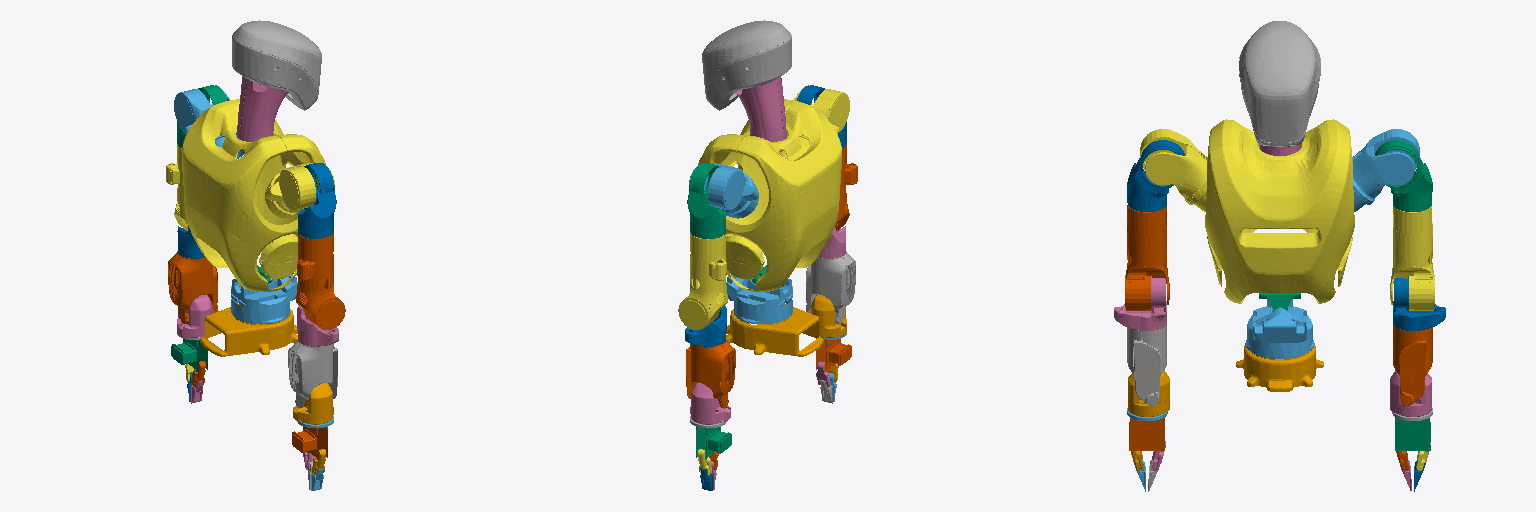
--- Facts derived from the render (not from the file) ---
3 views of the same robot in one strip: view 1: azimuth 30°, elevation 25°; view 2: azimuth 150°, elevation 25°; view 3: azimuth 270°, elevation 25° (orthographic).
Model alex_sake_hands with 39 links and 38 joints (23 revolute, 15 fixed), rooted at Pelvis, posed every joint at zero.
Links seen in each view (by area): view 1: Torso, Head, RightShoulderYawLink, Pelvis, RightWristYawLink, LeftWristYawLink, SpineYawLink, NeckYawLink, RightShoulderPitchLink, RightShoulderRollLink, LeftShoulderPitchLink, RightWristRollLink (+6 smaller); view 2: Torso, Head, LeftShoulderYawLink, Pelvis, LeftWristYawLink, RightWristYawLink, SpineYawLink, NeckYawLink, LeftShoulderPitchLink, LeftShoulderRollLink, RightShoulderPitchLink, LeftWristRollLink (+6 smaller); view 3: Torso, Head, RightShoulderYawLink, LeftShoulderYawLink, RightShoulderPitchLink, LeftShoulderPitchLink, SpineYawLink, Pelvis, LeftWristYawLink, RightWristYawLink, RightShoulderRollLink, LeftShoulderRollLink (+6 smaller).
Boxes of the visible links, x1,y1,x2,y2 form: Torso: (182, 99, 325, 291); Head: (232, 20, 321, 110); RightShoulderYawLink: (296, 232, 345, 329); Pelvis: (200, 304, 297, 356); RightWristYawLink: (288, 340, 337, 408); LeftWristYawLink: (168, 251, 217, 323); SpineYawLink: (231, 274, 297, 323); NeckYawLink: (237, 76, 288, 151); RightShoulderPitchLink: (265, 163, 334, 217); RightShoulderRollLink: (298, 163, 336, 238); LeftShoulderPitchLink: (174, 89, 244, 159); RightWristRollLink: (293, 383, 333, 424); Torso: (698, 99, 841, 292); Head: (702, 20, 791, 110); LeftShoulderYawLink: (678, 232, 727, 329); Pelvis: (726, 304, 823, 356); LeftWristYawLink: (686, 340, 735, 408); RightWristYawLink: (806, 251, 855, 323); SpineYawLink: (726, 275, 792, 323); NeckYawLink: (735, 76, 786, 151); LeftShoulderPitchLink: (689, 163, 758, 218); LeftShoulderRollLink: (687, 163, 725, 238); RightShoulderPitchLink: (779, 89, 849, 159); LeftWristRollLink: (690, 383, 730, 424); Torso: (1205, 119, 1354, 303); Head: (1239, 21, 1320, 146); RightShoulderYawLink: (1125, 205, 1169, 310); LeftShoulderYawLink: (1390, 206, 1434, 310); RightShoulderPitchLink: (1140, 129, 1207, 211); LeftShoulderPitchLink: (1352, 129, 1419, 211); SpineYawLink: (1245, 299, 1314, 358); Pelvis: (1236, 345, 1323, 391); LeftWristYawLink: (1393, 325, 1432, 405); RightWristYawLink: (1127, 325, 1166, 405); RightShoulderRollLink: (1127, 140, 1184, 211); LeftShoulderRollLink: (1375, 140, 1432, 211).
Bounding box of the posed robot: 0.3163 × 0.7309 × 1.12 m (x, y, z).
30 mesh visuals loaded from 23 distinct referenced files (23 OBJ).

URDF robot description (alex_sake_hands):
<?xml version = "1.0" ?>
<!-- =================================================================================== -->
<!-- |    This document was autogenerated by xacro from robot.xacro                    | -->
<!-- |    EDITING THIS FILE BY HAND IS NOT RECOMMENDED                                 | -->
<!-- =================================================================================== -->
<robot name="alex_sake_hands">

		<!-- 8020 Base, Chest and Head -->
	<link name="Pelvis">
		<inertial>
			<mass value="4.074"/>
			<origin rpy="0 0 0" xyz="-0.010295 -0.001599 0.056458"/>
			<inertia ixx="0.010219858" ixy="-0.00012501" ixz="-0.001101619" iyy="0.015397437" iyz="-0.000162984" izz="0.015996955" />
		</inertial>
		<visual>
			<geometry>
				<mesh filename="package://example-robot-data/robots/alex_description/meshes/ALX02_02_A01_BaseLink.obj"/>
			</geometry>
			<origin rpy="0.0 0.0 0.0" xyz="0.0 0.0 0.0"/>
		</visual>
	<collision>
      <origin xyz="0 0 0.0" rpy="0 0 0" />
      <geometry>
        <mesh filename="package://example-robot-data/robots/alex_description/meshes/ALX02_02_A01_BaseLink.obj" />
      </geometry>
    </collision>
	</link>
	<!-- Spine Joints -->
	<joint name="SpineYaw" type="revolute">
		<origin rpy="0 0 0" xyz="0 0 0.1045" />
		<axis xyz="0 0 1" />
		<parent link="Pelvis" />
		<child link="SpineYawLink" />
		<limit effort="150" lower="-1.0472" upper="1.0472" velocity = "9.0" />
		<dynamics damping="0.05" friction="0.0"/>
    </joint>

	<joint name="SpineRoll" type="revolute">
		<origin rpy="0 0 0" xyz="-0.015 0 0.0528" />
		<axis xyz="1 0 0" />
		<parent link="SpineYawLink" />
		<child link="SpineRollLink" />
		<limit effort="150.0" lower="-0.436332" upper="0.436332" velocity = "6.0" />
		<dynamics damping="0.05" friction="0.0"/>
	</joint>

	<joint name="SpinePitch" type="revolute">
		<origin rpy="0 0 0" xyz="0 0 0.035" />
		<axis xyz="0 1 0" />
		<parent link="SpineRollLink" />
		<child link="Torso" />
		<limit effort="250.0" lower="-0.523599" upper="0.785398" velocity = "6.0" />
		<dynamics damping="0.05" friction="0.0"/>
	</joint>

	<!-- Spine Links -->
	<link name="SpineYawLink">
		<inertial>
			<mass value="1.839"/>
			<origin rpy="0 0 0" xyz="0.00785 0.001802 0.030654"/>
			<inertia ixx="0.005450626" ixy="0.000208526" ixz="-0.001171705" iyy="0.007137808" iyz="0.000116812" izz="0.006970545"/>
		</inertial>
		<visual>
			<geometry>
				<mesh filename="package://example-robot-data/robots/alex_description/meshes/ALX02_02_A04_BaseDiffLink.obj"/>
			</geometry>
			<origin rpy="0.0 0.0 0.0" xyz="0.0 0.0 0.0"/>
		</visual>
	<collision>
      <origin xyz="0 0 0.0" rpy="0 0 0" />
      <geometry>
        <mesh filename="package://example-robot-data/robots/alex_description/meshes/ALX02_02_A04_BaseDiffLink.obj" />
      </geometry>
    </collision>
	</link>

	<link name="SpineRollLink">
		<inertial>
			<mass value="0.235"/>
			<origin rpy="0 0 0" xyz="0.000674 0.000626 0.018996"/>
			<inertia ixx="0.000188204" ixy="0.000000058" ixz="0.000002065" iyy="0.000148152" iyz="-0.000002403" izz="0.000195223"/>
		</inertial>
		<visual>
			<geometry>
				<mesh filename="package://example-robot-data/robots/alex_description/meshes/ALX02_02_A05_UJointLink.obj"/>
			</geometry>
			<origin rpy="0.0 0.0 0.0" xyz="0.0 0.0 0.0"/>
		</visual>
	<collision>
      <origin xyz="0 0 0.0" rpy="0 0 0" />
      <geometry>
        <mesh filename="package://example-robot-data/robots/alex_description/meshes/ALX02_02_A05_UJointLink.obj" />
      </geometry>
    </collision>
	</link>

	<!-- Torso Link -->
	<link name="Torso">
		<inertial>
			<mass value="17.574"/>
			<origin rpy="0 0 0" xyz="0.003673 0.000059 0.160289"/>
			<inertia ixx="0.24725248" ixy="-0.000080922" ixz="0.000927935" iyy="0.158680043" iyz="0.000328726" izz="0.153487995"/>
		</inertial>
		<visual>
			<geometry>
				<mesh filename="package://example-robot-data/robots/alex_description/meshes/ALX02_02_A06_TorsoLink.obj"/>
			</geometry>
			<origin rpy="0.0 0.0 0.0" xyz="0.0 0.0 0.0"/>
		</visual>
	<collision>
      <origin xyz="0 0 0.0" rpy="0 0 0" />
      <geometry>
        <mesh filename="package://example-robot-data/robots/alex_description/meshes/ALX02_02_A06_TorsoLink.obj" />
      </geometry>
    </collision>
	</link>

	<!-- TORSO IMU's NOTE: The torso IMUs are redundant-->
	<!-- Torso Left IMU. Currently not used for anything-->
	<link name="TorsoLeftIMULink">
		<inertial>
			<mass value="0"/>
			<origin rpy="0 0 0" xyz="0 0 0"/>
			<inertia ixx="0.0" ixy="0.0" ixz="0.0" iyy="0.0" iyz="0.0" izz="0.0"/>
		</inertial>
	</link>
	<joint name="TorsoLeftIMUJoint" type="fixed">
		<origin rpy="1.5707963267948966 -0.6981317007977316 1.5707963267948961" xyz="0.07978495 0.10932294 0.17623744"/>
		<axis xyz="0 0 1"/>
		<parent link="Torso"/>
		<child link="TorsoLeftIMULink"/>
	</joint>
	<gazebo reference="TorsoLeftIMULink">
		<sensor name="TorsoLeftIMU" type="imu">
			<always_on>true</always_on>
			<imu>
				<noise>
					<type>gaussian</type>
					<rate>
						<mean>0</mean>
						<stddev>0.0002</stddev>
						<bias_mean>7.5e-06</bias_mean>
						<bias_stddev>8e-07</bias_stddev>
					</rate>
					<accel>
						<mean>0</mean>
						<stddev>0.017</stddev>
						<bias_mean>0.1</bias_mean>
						<bias_stddev>0.001</bias_stddev>
					</accel>
				</noise>
			</imu>
		</sensor>
	</gazebo>

	<!-- Torso Right IMU. Currently not used for anything-->
	<link name="TorsoRightIMULink">
		<inertial>
			<mass value="0"/>
			<origin rpy="0 0 0" xyz="0 0 0"/>
			<inertia ixx="0.0" ixy="0.0" ixz="0.0" iyy="0.0" iyz="0.0" izz="0.0"/>
		</inertial>
	</link>
	<joint name="TorsoRightIMUJoint" type="fixed">
		<origin rpy="1.5707963267948966 0.6981317007977319 1.5707963267948966" xyz="0.07978495 -0.09055680 0.16048643"/>
		<axis xyz="0 0 1"/>
		<parent link="Torso"/>
		<child link="TorsoRightIMULink"/>
	</joint>
	<gazebo reference="TorsoRightIMULink">
		<sensor name="TorsoRightIMU" type="imu">
			<always_on>true</always_on>
			<imu>
				<noise>
					<type>gaussian</type>
					<rate>
						<mean>0</mean>
						<stddev>0.0002</stddev>
						<bias_mean>7.5e-06</bias_mean>
						<bias_stddev>8e-07</bias_stddev>
					</rate>
					<accel>
						<mean>0</mean>
						<stddev>0.017</stddev>
						<bias_mean>0.1</bias_mean>
						<bias_stddev>0.001</bias_stddev>
					</accel>
				</noise>
			</imu>
		</sensor>
	</gazebo>

	<!-- Neck Joints -->
	<joint name="NeckYaw" type="revolute">
		<origin rpy="0 0 0" xyz="0 0 0.307953" /> <!-- placeholder for the joint location -->
		<axis xyz="0 0 1" />
		<parent link="Torso" />
		<child link="NeckYawLink" />
		<limit effort="20" lower="-1.5708" upper="1.5708" velocity = "20" />
		<dynamics damping="0.05" friction="0.0"/>
	</joint>

	<joint name="NeckPitch" type="revolute">
		<origin rpy="0 0 0" xyz="0.025 0.01 0.207252" />
		<axis xyz="0 1 0" />
		<parent link="NeckYawLink" />
		<child link="Head" />
		<limit effort="20" lower="-1.0472" upper="1.0472" velocity = "20" />
		<dynamics damping="0.05" friction="0.0"/>
	</joint>

	<!--	 Neck and Head -->
	<!--	 Inertia data is a placeholder -->
	<link name="NeckYawLink">
		<inertial>
			<mass value="1.141"/>
			<origin rpy="0 0 0" xyz="0.007143 0.006943 0.109823"/>
			<inertia ixx="0.007475898" ixy="-0.000075723" ixz="-0.000745362" iyy="0.007407578" iyz="-0.000436948" izz="0.00109269" />
		</inertial>
		<visual>
			<geometry>
				<mesh filename="package://example-robot-data/robots/alex_description/meshes/ALX02_01_A03_NeckLink.obj"/>
			</geometry>
			<origin rpy="0.0 0.0 0.0" xyz="0.0 0.0 0.0"/>
		</visual>
	<collision>
      <origin xyz="0 0 0.0" rpy="0 0 0" />
      <geometry>
        <mesh filename="package://example-robot-data/robots/alex_description/meshes/ALX02_01_A03_NeckLink.obj" />
      </geometry>
    </collision>
	</link>

	<link name="Head">
		<inertial>
			<mass value="1.677"/>
			<origin rpy="0 0 0" xyz="0.03237 -0.013568 0.007163"/>
			<inertia ixx="0.006026191" ixy="-0.000197484" ixz="0.001813659" iyy="0.008182071" iyz="-0.000042529" izz="0.00644909"/>
		</inertial>
		<visual>
			<geometry>
				<mesh filename="package://example-robot-data/robots/alex_description/meshes/ALX02_01_A02_HeadLink.obj"/>
			</geometry>
			<origin rpy="0.0 0.0 0.0" xyz="0.0 0.0 0.0"/>
		</visual>
	<collision>
      <origin xyz="0 0 0.0" rpy="0 0 0" />
      <geometry>
        <mesh filename="package://example-robot-data/robots/alex_description/meshes/ALX02_01_A02_HeadLink.obj" />
      </geometry>
    </collision>
	</link>

	<!-- NeckBaseIMU-->
	<!-- this is an IMU on top of the Neck yaw motor controller board-->
	<link name="TorsoIMULink">
		<inertial>
			<mass value="0"/>
			<origin rpy="0 0 0" xyz="0 0 0"/>
			<inertia ixx="0.0" ixy="0.0" ixz="0.0" iyy="0.0" iyz="0.0" izz="0.0"/>
		</inertial>
	</link>
	<joint name="TorsoIMUJoint" type="fixed">
		<origin rpy="0 0 -1.5707963267948966" xyz="0.00399725 -0.01225021 0.24512039"/>
		<axis xyz="0 0 1"/>
		<parent link="Torso"/>
		<child link="TorsoIMULink"/>
	</joint>
	<gazebo reference="TorsoIMULink">
		<sensor name="TorsoIMU" type="imu">
			<always_on>true</always_on>
			<imu>
				<noise>
					<type>gaussian</type>
					<rate>
						<mean>0</mean>
						<stddev>0.0002</stddev>
						<bias_mean>7.5e-06</bias_mean>
						<bias_stddev>8e-07</bias_stddev>
					</rate>
					<accel>
						<mean>0</mean>
						<stddev>0.017</stddev>
						<bias_mean>0.1</bias_mean>
						<bias_stddev>0.001</bias_stddev>
					</accel>
				</noise>
			</imu>
		</sensor>
	</gazebo>

	<!-- LEFT ARM -->
	<!-- left upper arm joints -->
	<joint name="LeftShoulderPitch" type="revolute">
		<origin xyz="0 0.12799 0.235694" rpy="0.698132 0.0 0.0"   />
		<axis xyz="0.0 1.0 0.0" />
		<parent link="Torso" />
		<child link="LeftShoulderPitchLink" />
		<limit effort="150.0" lower="-3.141592" upper="1.22173" velocity = "9.0" />
		<dynamics damping="0.05" friction="0.0"/>
	</joint>

	<joint name="LeftShoulderRoll" type="revolute">
		<origin rpy="-0.698132 0.0 0.0" xyz="0.0 0.15676000 -0.01300000" />
		<axis xyz="1 0 0" />
		<parent link="LeftShoulderPitchLink" />
		<child link="LeftShoulderRollLink" />
		<limit effort="150.0" lower="-0.349066" upper="2.79253" velocity = "9.0" />
		<dynamics damping="0.05" friction="0.0"/>
	</joint>

	<joint name="LeftShoulderYaw" type="revolute">
		<origin rpy="0.0 0.0 0.0" xyz="0.0 0.035 0.0" />
		<axis xyz="0.0 0.0 1.0" />
		<parent link="LeftShoulderRollLink" />
		<child link="LeftShoulderYawLink" />
		<limit effort="80.0" lower="-1.91986" upper="1.22173" velocity = "11.5" />
		<dynamics damping="0.05" friction="0.0"/>
	</joint>

	<joint name="LeftElbowPitch" type="revolute">
		<origin rpy="0.0 0.0 0.0" xyz="0.015 0.0 -0.3127" />
		<axis xyz="0.0 1.0 0.0" />
		<parent link="LeftShoulderYawLink" />
		<child link="LeftElbowPitchLink" />
		<limit effort="80.0" lower="-2.35619" upper="0.174532925" velocity = "11.5" />
		<dynamics damping="0.05" friction="0.0"/>
	</joint>

	<!-- left wrist joints -->
	<joint name="LeftWristYaw" type="revolute">
		<origin xyz="-0.015 0.0 0.0" rpy="0.0 0.0 0.0"   />
		<axis xyz="0.0 0.0 1.0" />
		<parent link="LeftElbowPitchLink" />
		<child link="LeftWristYawLink" />
		<limit effort="20.0" lower="-2.61799" upper="2.61799" velocity = "25.0" />
		<dynamics damping="0.05" friction="0.0"/>
	</joint>

	<joint name="LeftWristRoll" type="revolute">
		<origin xyz="0.0 -0.013 -0.25" rpy="0.0 0.0 0.0"/>
		<axis xyz="1 0 0" />
		<parent link="LeftWristYawLink" />
		<child link="LeftWristRollLink" />
		<limit effort="20.0" lower="-1.8326" upper="0.610865" velocity = "25.0" />
		<dynamics damping="0.05" friction="0.0"/>
	</joint>

	<joint name="LeftGripperYaw" type="revolute">
		<origin xyz="0.0 0.013 -0.031" rpy="0.0 0.0 0.0" />
		<axis xyz="0.0 0.0 1.0" />
		<parent link="LeftWristRollLink" />
		<child link="LeftGripperYawLink" />
		<limit effort="20.0" lower="-2.61799" upper="2.61799" velocity = "25.0" />
		<dynamics damping="0.05" friction="0.0"/>
	</joint>

	<!-- left upper arm links -->
	<link name="LeftShoulderPitchLink">
		<inertial>
			<mass value="2.99"/>
			<origin
					rpy="0 0 0"
					xyz="-0.00264 0.12135 -0.006824"/>
			<inertia ixx="0.0111046" ixy="0.0002882" ixz="-0.000054" iyy="0.0051699" iyz="0.0009318" izz="0.01176" />
		</inertial>
		<visual>
			<geometry>
				<mesh filename="package://example-robot-data/robots/alex_description/meshes/cycloidal_arm/LeftShoulderPitchLink.obj"/>
			</geometry>
			<origin rpy="0.0 0.0 0.0" xyz="0.0 0.0 0.0"/>
		</visual>
	<collision>
      <origin xyz="0 0 0.0" rpy="0 0 0" />
      <geometry>
        <mesh filename="package://example-robot-data/robots/alex_description/meshes/cycloidal_arm/LeftShoulderPitchLink.obj" />
      </geometry>
    </collision>
	</link>

	<link name="LeftShoulderRollLink">
		<inertial>
			<mass value="0.972"/>
			<origin
					rpy="0 0 0"
					xyz="0.01251711 0.0188309 -0.03849849"/>
			<inertia ixx="0.0029485" ixy="0.0001386" ixz="-0.0003345" iyy="0.0023587" iyz="0.0005255" izz="0.0014366" />
		</inertial>
		<visual>
			<geometry>
				<mesh filename="package://example-robot-data/robots/alex_description/meshes/cycloidal_arm/LeftShoulderRollLink_shortBicep.obj"/>
			</geometry>
			<origin rpy="0.0 0.0 0.0" xyz="0.0 0.0 0.0"/>
		</visual>
	<collision>
      <origin xyz="0 0 0.0" rpy="0 0 0" />
      <geometry>
        <mesh filename="package://example-robot-data/robots/alex_description/meshes/cycloidal_arm/LeftShoulderRollLink_shortBicep.obj" />
      </geometry>
    </collision>
	</link>

	<link name="LeftShoulderYawLink">
		<inertial>
			<mass value="2.91"/>
			<origin
					rpy="0 0 0"
					xyz="0.00510403 0.00314332 -0.21695413"/>
			<inertia ixx="0.0267829" ixy="-0.000011" ixz="0.0015998" iyy="0.0265514" iyz="0.0004426" izz="0.003052" />
		</inertial>
		<visual>
			<geometry>
				<mesh filename="package://example-robot-data/robots/alex_description/meshes/cycloidal_arm/LeftShoulderYawLink.obj"/>
			</geometry>
			<origin rpy="0.0 0.0 0.0" xyz="0.0 0.0 0.0867"/>
		</visual>
	<collision>
      <origin xyz="0 0 0.0" rpy="0 0 0" />
      <geometry>
        <mesh filename="package://example-robot-data/robots/alex_description/meshes/cycloidal_arm/LeftShoulderYawLink.obj" />
      </geometry>
    </collision>
	</link>

	<!-- left wrist links -->
	<link name="LeftElbowPitchLink">
		<inertial>
			<mass value="0.45"/>
			<origin
					rpy="0 0 0"
					xyz="-0.01180322 -0.0035763 -0.04946747"/>

			<inertia ixx="0.0007362" ixy="-0.0000088" ixz="-0.0000292" iyy="0.0006567" iyz="0.0001499" izz="0.0004897" />
		</inertial>
		<visual>
			<geometry>
				<mesh filename="package://example-robot-data/robots/alex_description/meshes/cycloidal_arm/LeftElbowPitchLink.obj"/>
			</geometry>
			<origin rpy="0.0 0.0 0.0" xyz="0.0 0.0 0.0"/>
		</visual>
	<collision>
      <origin xyz="0 0 0.0" rpy="0 0 0" />
      <geometry>
        <mesh filename="package://example-robot-data/robots/alex_description/meshes/cycloidal_arm/LeftElbowPitchLink.obj" />
      </geometry>
    </collision>
	</link>

	<link name="LeftWristYawLink">
		<inertial>
			<mass value="1.547"/> <!-- This is a measured value. Refer to https://docs.google.com/spreadsheets/d/1VXWFJk3VJUsfkHrDaytB2INq94un1KytIOzcKJD0p44/edit?gid=0#gid=0  -->
			<origin
					rpy="0 0 0"
					xyz="-0.00263832 -0.00050534 -0.13018376"/>

			<inertia ixx="0.0037869" ixy="0.0000163" ixz="-0.0000252" iyy="0.004071" iyz="-0.0000924" izz="0.0015203" />
		</inertial>
		<visual>
			<geometry>
				<mesh filename="package://example-robot-data/robots/alex_description/meshes/cycloidal_arm/LeftWristYawLink.obj"/>
			</geometry>
			<origin rpy="0.0 0.0 0.0" xyz="0.0 0.0 0.0"/>
		</visual>
	<collision>
      <origin xyz="0 0 0.0" rpy="0 0 0" />
      <geometry>
        <mesh filename="package://example-robot-data/robots/alex_description/meshes/cycloidal_arm/LeftWristYawLink.obj" />
      </geometry>
    </collision>
	</link>


	<link name="LeftWristRollLink">
		<inertial>
			<mass value="0.909"/> <!-- This is a measured value. Refer to https://docs.google.com/spreadsheets/d/1VXWFJk3VJUsfkHrDaytB2INq94un1KytIOzcKJD0p44/edit?gid=0#gid=0  -->
			<origin
					rpy="0 0 0"
					xyz="0.00004053 0.01038395 0.00035532"/>

			<inertia ixx="0.000477" ixy="-0.0000079" ixz="-0.0000097" iyy="0.0004902" iyz="-0.0000008" izz="0.000514" />
		</inertial>

		<visual>
			<geometry>
				<mesh filename="package://example-robot-data/robots/alex_description/meshes/cycloidal_arm/LeftWristRollLink.obj"/>
			</geometry>
			<origin rpy="0.0 0.0 0.0" xyz="0.0 0.0 0.0"/>
		</visual>
	<collision>
      <origin xyz="0 0 0.0" rpy="0 0 0" />
      <geometry>
        <mesh filename="package://example-robot-data/robots/alex_description/meshes/cycloidal_arm/LeftWristRollLink.obj" />
      </geometry>
    </collision>
	</link>


	<link name="LeftGripperYawLink">
		<inertial>
			<mass value="0.251"/>
			<origin
					rpy="0 0 0"
					xyz="-0.000217 -0.000349 0.009761"/>
			<inertia ixx="0.0000722" ixy="-0.0000016" ixz="-0.0000037" iyy="0.0000747" iyz="0.0000004" izz="0.0000324" />
		</inertial>
		<visual>
			<geometry>
				<mesh filename="package://example-robot-data/robots/alex_description/meshes/cycloidal_arm/LeftGripperYawLink.obj"/>
			</geometry>
			<origin rpy="0.0 0.0 0.0" xyz="0.0 0.0 0.0"/>
		</visual>
	<collision>
      <origin xyz="0 0 0.0" rpy="0 0 0" />
      <geometry>
        <mesh filename="package://example-robot-data/robots/alex_description/meshes/cycloidal_arm/LeftGripperYawLink.obj" />
      </geometry>
    </collision>
	</link>

	<!-- LEFT ARM IMU's -->
	<!-- Left Shoulder Pitch IMU Information -->
	<link name="LeftShoulderPitchIMULink">
		<inertial>
			<mass value="0"/>
			<origin rpy="0 0 0" xyz="0 0 0"/>
			<inertia ixx="0.0" ixy="0.0" ixz="0.0" iyy="0.0" iyz="0.0" izz="0.0"/>
		</inertial>
	</link>
	<joint name="LeftShoulderPitchIMUJoint" type="fixed">
		<origin rpy="-3.141592 0 -1.57079632679" xyz="0.01432621 0.0755071 -0.00245783"/>
		<axis xyz="0 0 1"/>
		<parent link="LeftShoulderPitchLink"/>
		<child link="LeftShoulderPitchIMULink"/>
	</joint>
	<gazebo reference="LeftShoulderPitchIMULink">
		<sensor name="LeftShoulderPitchIMU" type="imu">
			<always_on>true</always_on>
			<imu>
				<noise>
					<type>gaussian</type>
					<rate>
						<mean>0</mean>
						<stddev>0.0002</stddev>
						<bias_mean>7.5e-06</bias_mean>
						<bias_stddev>8e-07</bias_stddev>
					</rate>
					<accel>
						<mean>0</mean>
						<stddev>0.017</stddev>
						<bias_mean>0.1</bias_mean>
						<bias_stddev>0.001</bias_stddev>
					</accel>
				</noise>
			</imu>
		</sensor>
	</gazebo>

	<!-- Left ShoulderYaw IMU Note: in CAD this is the left bicep IMU -->
	<link name="LeftShoulderYawIMULink">
		<inertial>
			<mass value="0"/>
			<origin rpy="0 0 0" xyz="0 0 0"/>
			<inertia ixx="0.0" ixy="0.0" ixz="0.0" iyy="0.0" iyz="0.0" izz="0.0"/>
		</inertial>
	</link>
	<joint name="LeftShoulderYawIMUJoint" type="fixed">
		<origin rpy="1.570796 3.1415926 -0.314159" xyz="-0.00633723 -0.00669505 -0.19881468"/>
		<axis xyz="0 0 1"/>
		<parent link="LeftShoulderYawLink"/>
		<child link="LeftShoulderYawIMULink"/>
	</joint>
	<gazebo reference="LeftShoulderYawIMULink">
		<sensor name="LeftShoulderYawIMU" type="imu">
			<always_on>true</always_on>
			<pose>0 0 0 0 0 0</pose>
			<imu>
				<noise>
					<type>gaussian</type>
					<rate>
						<mean>0</mean>
						<stddev>0.0002</stddev>
						<bias_mean>7.5e-06</bias_mean>
						<bias_stddev>8e-07</bias_stddev>
					</rate>
					<accel>
						<mean>0</mean>
						<stddev>0.017</stddev>
						<bias_mean>0.1</bias_mean>
						<bias_stddev>0.001</bias_stddev>
					</accel>
				</noise>
			</imu>
		</sensor>
	</gazebo>

	<!-- Left Wrist Yaw IMU Note: in CAD this is the left bicep IMU -->
	<link name="LeftWristYawIMULink">
		<inertial>
			<mass value="0"/>
			<origin rpy="0 0 0" xyz="0 0 0"/>
			<inertia ixx="0.0" ixy="0.0" ixz="0.0" iyy="0.0" iyz="0.0" izz="0.0"/>
		</inertial>
	</link>

	<joint name="LeftWristYawIMUJoint" type="fixed">
		<origin rpy="1.571  0.0 1.571" xyz="-0.048986 0.011658 -0.149476"/>
		<axis xyz="0 0 1"/>
		<parent link="LeftWristYawLink"/>
		<child link="LeftWristYawIMULink"/>
	</joint>

	<gazebo reference="LeftWristYawIMULink">
		<sensor name="LeftWristYawIMU" type="imu">
			<always_on>true</always_on>
			<imu> <!-- placeholder tag for IMU --> </imu>
		</sensor>
	</gazebo>

	<!-- RIGHT ARM -->
	<!-- Right Upper Arm Joints -->
	<joint name="RightShoulderPitch" type="revolute">
		<origin xyz="0 -0.12799 0.235694" rpy="-0.698132 0.0 0.0"   />
		<axis xyz="0.0 1.0 0.0" />
		<parent link="Torso" />
		<child link="RightShoulderPitchLink" />
		<limit effort="1000" lower="-3.141592" upper="1.22173" velocity = "100" />
		<dynamics damping="0.05" friction="0.0"/>
	</joint>
	<joint name="RightShoulderRoll" type="revolute">
		<origin rpy="0.698132 0.0 0.0" xyz="0.0 -0.15676000 -0.01300000" />
		<axis xyz="1 0 0" />
		<parent link="RightShoulderPitchLink" />
		<child link="RightShoulderRollLink" />
		<limit effort="1000" lower="-2.79253" upper="0.349066" velocity = "100" />
		<dynamics damping="0.05" friction="0.0"/>
	</joint>
	<joint name="RightShoulderYaw" type="revolute">
		<origin rpy="0.0 0.0 0.0" xyz="0.0 -0.035 0.0" />
		<axis xyz="0.0 0.0 1.0" />
		<parent link="RightShoulderRollLink" />
		<child link="RightShoulderYawLink" />
		<limit effort="1000" lower="-1.22173" upper="1.91986" velocity = "100" />
		<dynamics damping="0.05" friction="0.0"/>
	</joint>
	<joint name="RightElbowPitch" type="revolute">
		<origin rpy="0.0 0.0 0.0" xyz="0.015 0.0 -0.3127" />
		<axis xyz="0.0 1.0 0.0" />
		<parent link="RightShoulderYawLink" />
		<child link="RightElbowPitchLink" />
		<limit effort="1000" lower="-2.35619" upper="0.174532925" velocity = "100" />
		<dynamics damping="0.05" friction="0.0"/>
	</joint>

	<!-- Right wrist joints -->
	<joint name="RightWristYaw" type="revolute">
		<origin xyz="-0.015 0.0 0.0" rpy="0.0 0.0 0.0"   />
		<axis xyz="0.0 0.0 1.0" />
		<parent link="RightElbowPitchLink" />
		<child link="RightWristYawLink" />
		<limit effort="20.0" lower="-2.61799" upper="2.61799" velocity = "25.0" />
		<dynamics damping="0.05" friction="0.0"/>
	</joint>

	<joint name="RightWristRoll" type="revolute">
		<origin xyz="0.0 0.013 -0.25" rpy="0.0 0.0 0.0"/>
		<axis xyz="1 0 0" />
		<parent link="RightWristYawLink" />
		<child link="RightWristRollLink" />
		<limit effort="20.0" lower="-0.610865" upper="1.8326" velocity = "25.0" />
		<dynamics damping="0.05" friction="0.0"/>
	</joint>

	<joint name="RightGripperYaw" type="revolute">
		<origin xyz="0.0 -0.013 -0.031" rpy="0.0 0.0 0.0" />
		<axis xyz="0.0 0.0 1.0" />
		<parent link="RightWristRollLink" />
		<child link="RightGripperYawLink" />
		<limit effort="20.0" lower="-2.61799" upper="2.61799" velocity = "25.0" />
		<dynamics damping="0.05" friction="0.0"/>
	</joint>

	<!-- Right Upper Arm Links -->
	<link name="RightShoulderPitchLink">
		<inertial>
			<mass value="2.99"/>
			<origin rpy="0 0 0" xyz="-0.00264 -0.12135 -0.006824"/>
			<inertia ixx="0.0110394" ixy="-0.0003041" ixz="-0.0000594" iyy="0.0051097" iyz="-0.0009183" izz="0.0116925" />
		</inertial>
		<visual>
			<geometry>
				<mesh filename="package://example-robot-data/robots/alex_description/meshes/cycloidal_arm/RightShoulderPitchLink.obj"/>
			</geometry>
			<origin rpy="0.0 0.0 0.0" xyz="0.0 0.0 0.0"/>
		</visual>
	<collision>
      <origin xyz="0 0 0.0" rpy="0 0 0" />
      <geometry>
        <mesh filename="package://example-robot-data/robots/alex_description/meshes/cycloidal_arm/RightShoulderPitchLink.obj" />
      </geometry>
    </collision>
	</link>

	<link name="RightShoulderRollLink">
		<inertial>
			<mass value="0.972"/>
			<origin rpy="0 0 0" xyz="0.012489 -0.01882 -0.0385"/>
			<inertia ixx="0.002949" ixy="-0.000135" ixz="-0.0003358" iyy="0.0023603" iyz="-0.0005249" izz="0.0014377" />
		</inertial>
		<visual>
			<geometry>
				<mesh filename="package://example-robot-data/robots/alex_description/meshes/cycloidal_arm/RightShoulderRollLink_shortBicep.obj"/>
			</geometry>
			<origin rpy="0.0 0.0 0.0" xyz="0.0 0.0 0.0"/>
		</visual>
	<collision>
      <origin xyz="0 0 0.0" rpy="0 0 0" />
      <geometry>
        <mesh filename="package://example-robot-data/robots/alex_description/meshes/cycloidal_arm/RightShoulderRollLink_shortBicep.obj" />
      </geometry>
    </collision>
	</link>

	<link name="RightShoulderYawLink">
		<inertial>
			<mass value="2.91"/>
			<origin rpy="0 0 0" xyz="0.00524 -0.00274 -0.21745"/>
			<inertia ixx="0.0248699" ixy="0.0000211" ixz="0.0000211" iyy="0.0245973" iyz="-0.0004444" izz="0.0029883" />
		</inertial>
		<visual>
			<geometry>
				<mesh filename="package://example-robot-data/robots/alex_description/meshes/cycloidal_arm/RightShoulderYawLink.obj"/>
			</geometry>
			<origin rpy="0.0 0.0 0.0" xyz="0.0 0.0 0.0867"/>
		</visual>
	<collision>
      <origin xyz="0 0 0.0" rpy="0 0 0" />
      <geometry>
        <mesh filename="package://example-robot-data/robots/alex_description/meshes/cycloidal_arm/RightShoulderYawLink.obj" />
      </geometry>
    </collision>
	</link>

	<!-- right wrist links -->
	<link name="RightElbowPitchLink">
		<inertial>
			<mass value="0.45"/>
			<origin xyz="-0.0127 0.006913 -0.048421" rpy="0 0 0"/>
			<inertia ixx="0.0006446" ixy="-0.0000073" ixz="-0.0000345" iyy="0.000625" iyz="-0.0001257" izz="0.0003922" />
		</inertial>
		<visual>
			<geometry>
				<mesh filename="package://example-robot-data/robots/alex_description/meshes/cycloidal_arm/RightElbowPitchLink.obj"/>
			</geometry>
			<origin rpy="0.0 0.0 0.0" xyz="0.0 0.0 0.0"/>
		</visual>
	<collision>
      <origin xyz="0 0 0.0" rpy="0 0 0" />
      <geometry>
        <mesh filename="package://example-robot-data/robots/alex_description/meshes/cycloidal_arm/RightElbowPitchLink.obj" />
      </geometry>
    </collision>
	</link>

	<link name="RightWristYawLink">
		<inertial>
			<mass value="1.547"/> <!-- This is a measured value. Refer to https://docs.google.com/spreadsheets/d/1VXWFJk3VJUsfkHrDaytB2INq94un1KytIOzcKJD0p44/edit?gid=0#gid=0  -->
			<origin xyz="-0.002616 0.000462 -0.13019" rpy="0 0 0"/>
			<inertia ixx="0.0037805" ixy="-0.0000177" ixz="-0.000025" iyy="0.0040639" iyz="0.00009" izz="0.0015151" />
		</inertial>
		<visual>
			<geometry>
				<mesh filename="package://example-robot-data/robots/alex_description/meshes/cycloidal_arm/RightWristYawLink.obj"/>
			</geometry>
			<origin rpy="0.0 0.0 0.0" xyz="0.0 0.0 0.0"/>
		</visual>
	<collision>
      <origin xyz="0 0 0.0" rpy="0 0 0" />
      <geometry>
        <mesh filename="package://example-robot-data/robots/alex_description/meshes/cycloidal_arm/RightWristYawLink.obj" />
      </geometry>
    </collision>
	</link>

	<link name="RightWristRollLink">
		<inertial>
			<mass value="0.909"/> <!-- This is a measured value. Refer to https://docs.google.com/spreadsheets/d/1VXWFJk3VJUsfkHrDaytB2INq94un1KytIOzcKJD0p44/edit?gid=0#gid=0  -->
			<origin xyz="-0.0000481 -0.012143 0.000196" rpy="0 0 0"/>
			<inertia ixx="0.0005535" ixy="0.0000081" ixz="-0.0000231" iyy="0.0005559" iyz="0.0000012" izz="0.0005893" />
		</inertial>
		<visual>
			<geometry>
				<mesh filename="package://example-robot-data/robots/alex_description/meshes/cycloidal_arm/RightWristRollLink.obj"/>
			</geometry>
			<origin rpy="0.0 0.0 0.0" xyz="0.0 0.0 0.0"/>
		</visual>
	<collision>
      <origin xyz="0 0 0.0" rpy="0 0 0" />
      <geometry>
        <mesh filename="package://example-robot-data/robots/alex_description/meshes/cycloidal_arm/RightWristRollLink.obj" />
      </geometry>
    </collision>
	</link>

	<link name="RightGripperYawLink">
		<inertial>
			<mass value="0.251"/>
			<origin rpy="0 0 0" xyz="-0.000217 -0.000349 0.009761"/>
			<inertia ixx="0.0000722" ixy="-0.0000016" ixz="-0.0000037" iyy="0.0000747" iyz="0.0000004" izz="0.0000324" />
		</inertial>
		<visual>
			<geometry>
				<mesh filename="package://example-robot-data/robots/alex_description/meshes/cycloidal_arm/RightGripperYawLink.obj"/>
			</geometry>
			<origin rpy="0.0 0.0 0.0" xyz="0.0 0.0 0.0"/>
		</visual>
	<collision>
      <origin xyz="0 0 0.0" rpy="0 0 0" />
      <geometry>
        <mesh filename="package://example-robot-data/robots/alex_description/meshes/cycloidal_arm/RightGripperYawLink.obj" />
      </geometry>
    </collision>
	</link>
	<!-- Right ARM IMU's -->
	<!-- Right Shoulder Pitch IMU Information -->
	<link name="RightShoulderPitchIMULink">
		<inertial>
			<mass value="0"/>
			<origin rpy="0 0 0" xyz="0 0 0"/>
			<inertia ixx="0.0" ixy="0.0" ixz="0.0" iyy="0.0" iyz="0.0" izz="0.0"/>
		</inertial>
	</link>
	<joint name="RightShoulderPitchIMUJoint" type="fixed">
		<origin rpy="3.141592 0 -1.57079632679" xyz="0.01432621 -0.10001299 -0.00245783"/>
		<axis xyz="0 0 1"/>
		<parent link="RightShoulderPitchLink"/>
		<child link="RightShoulderPitchIMULink"/>
	</joint>
	<gazebo reference="RightShoulderPitchIMULink">
		<sensor name="RightShoulderPitchIMU" type="imu">
			<always_on>true</always_on>
			<imu>
				<noise>
					<type>gaussian</type>
					<rate>
						<mean>0</mean>
						<stddev>0.0002</stddev>
						<bias_mean>7.5e-06</bias_mean>
						<bias_stddev>8e-07</bias_stddev>
					</rate>
					<accel>
						<mean>0</mean>
						<stddev>0.017</stddev>
						<bias_mean>0.1</bias_mean>
						<bias_stddev>0.001</bias_stddev>
					</accel>
				</noise>
			</imu>
		</sensor>
	</gazebo>

	<!-- Right ShoulderYaw IMU Note: in CAD this is the left bicep IMU -->
	<link name="RightShoulderYawIMULink">
		<inertial>
			<mass value="0"/>
			<origin rpy="0 0 0" xyz="0 0 0"/>
			<inertia ixx="0.0" ixy="0.0" ixz="0.0" iyy="0.0" iyz="0.0" izz="0.0"/>
		</inertial>
	</link>
	<joint name="RightShoulderYawIMUJoint" type="fixed">
		<origin rpy="-1.570796 0.0 0.314159" xyz="0.00119168 0.00914134 -0.19881468"/>
		<axis xyz="0 0 1"/>
		<parent link="RightShoulderYawLink"/>
		<child link="RightShoulderYawIMULink"/>
	</joint>
	<gazebo reference="RightShoulderYawIMULink">
		<sensor name="RightShoulderYawIMU" type="imu">
			<always_on>true</always_on>
			<pose>0 0 0 0 0 0</pose>
			<imu>
				<noise>
					<type>gaussian</type>
					<rate>
						<mean>0</mean>
						<stddev>0.0002</stddev>
						<bias_mean>7.5e-06</bias_mean>
						<bias_stddev>8e-07</bias_stddev>
					</rate>
					<accel>
						<mean>0</mean>
						<stddev>0.017</stddev>
						<bias_mean>0.1</bias_mean>
						<bias_stddev>0.001</bias_stddev>
					</accel>
				</noise>
			</imu>
		</sensor>
	</gazebo>

	<!-- Right Wrist Yaw IMU Note: in CAD this is the left bicep IMU -->
	<link name="RightWristYawIMULink">
		<inertial>
			<mass value="0"/>
			<origin rpy="0 0 0" xyz="0 0 0"/>
			<inertia ixx="0.0" ixy="0.0" ixz="0.0" iyy="0.0" iyz="0.0" izz="0.0"/>
		</inertial>
	</link>

	<joint name="RightWristYawIMUJoint" type="fixed">
		<origin rpy="1.571  0.0 1.571" xyz="-0.048986 0.011658 -0.149476"/>
		<axis xyz="0 0 1"/>
		<parent link="RightWristYawLink"/>
		<child link="RightWristYawIMULink"/>
	</joint>

	<gazebo reference="RightWristYawIMULink">
		<sensor name="RightWristYawIMU" type="imu">
			<always_on>true</always_on>
			<imu> <!-- placeholder tag for IMU --> </imu>
		</sensor>
	</gazebo>

	<!-- Gripper Fixed Joints -->

	<joint name="LeftGrippertAttachmentFixedJoint" type="fixed">
		<origin rpy="0 0 0" xyz="0 0 -0.0210000"/>
		<parent link="LeftGripperYawLink"/>
		<child link="LeftSakePalmLink"/>
    </joint>
		<joint name="RightGrippertAttachmentFixedJoint" type="fixed">
		<origin rpy="0 0 0" xyz="0 0 -0.0210000"/>
		<parent link="RightGripperYawLink"/>
		<child link="RightSakePalmLink"/>
    </joint>

	<!-- HAND LINKS -->
	<!-- Right Sake Gripper -->
	<link name="RightSakePalmLink">
        <inertial>
            <mass value="0.3"/>
            <origin rpy="0 0 0" xyz="0.01 0.0 -0.06"/>
            <inertia ixx="5e-4" ixy="0.0" ixz="0.0" iyy="3e-4" iyz="0.0" izz="3e-4" />
        </inertial>
        <visual name="RightSakePalmLinkVisual">
            <origin xyz="0.0 0.0 0.0" rpy="0 0 0"/>
            <geometry>
                <mesh filename="package://example-robot-data/robots/alex_description/meshes/SakePalmLink.obj"/>
            </geometry>
        </visual>
     <collision>
      <origin xyz="0 0 0.0" rpy="0 0 0" />
      <geometry>
        <mesh filename="package://example-robot-data/robots/alex_description/meshes/SakePalmLink.obj" />
      </geometry>
    </collision>
    </link>

	<joint name="Right_GRIPPER_X1" type="revolute">
        <origin xyz="0.0 0.0299 -0.0754" rpy="-0.25 0.0 0.0"/>
        <axis xyz="1.0 0.0 0.0"/>
        <parent link="RightSakePalmLink"/>
        <child link="RightSakeBaseFingerLink1"/>
        <dynamics damping="0.05" friction="0.0"/>
        <limit effort="1.0" lower="-0.06" upper="1.9" velocity="3.67"/>
    </joint>
    <joint name="RightSakeKnuckle1" type="fixed">
        <origin xyz="0.0 0.0 -0.052" rpy="0.0 0.0 0.0"/>
        <axis xyz="1.0 0.0 0.0"/>
        <parent link="RightSakeBaseFingerLink1"/>
        <child link="RightSakeFingerTip1"/>
        <dynamics damping="0.05" friction="0.0"/>
        <limit effort="1.0" lower="-1.0" upper="0.0" velocity="3.67"/>
    </joint>
    <joint name="Right_GRIPPER_X2" type="revolute">
        <origin xyz="0.0 -0.0299 -0.0754" rpy="0.25 0.0 0.0"/>
        <axis xyz="-1.0 0.0 0.0"/>
        <parent link="RightSakePalmLink"/>
        <child link="RightSakeBaseFingerLink2"/>
        <dynamics damping="0.05" friction="0.0"/>
        <limit effort="1.0" lower="-0.06" upper="1.9" velocity="3.67"/>
    </joint>
    <joint name="RightSakeKnuckle2" type="fixed">
        <origin xyz="0.0 0.0 -0.052" rpy="0.0 0.0 0.0"/>
        <axis xyz="-1.0 0.0 0.0"/>
        <parent link="RightSakeBaseFingerLink2"/>
        <child link="RightSakeFingerTip2"/>
        <dynamics damping="0.05" friction="0.0"/>
        <limit effort="1.0" lower="-1.0" upper="0.0" velocity="3.67"/>
	</joint>

	<link name="RightSakeBaseFingerLink1">
        <inertial>
            <mass value="0.05"/>
            <origin xyz="0.0 0.0 0.0" rpy="0.0 0.0 3.142"/>
            <inertia ixx="1e-4" ixy="0.0" ixz="0.0" iyy="1e-4" iyz="0.0" izz="1e-4"/>
        </inertial>
        <visual name="RIGHT_GRIPPER_ROLL1_LINK_visual">
            <origin xyz="0.0 0.0 0.0" rpy="1.571 0.0 0.0"/>
            <geometry>
                <mesh filename="package://example-robot-data/robots/alex_description/meshes/sake_finger_knuckle.obj"/>
            </geometry>
        </visual>
      <collision>
      <origin xyz="0 0 0.0" rpy="0 0 0" />
      <geometry>
        <mesh filename="package://example-robot-data/robots/alex_description/meshes/sake_finger_knuckle.obj" />
      </geometry>
    </collision>
    </link>
    <link name="RightSakeFingerTip1">
        <inertial>
            <mass value="0.05"/>
            <origin xyz="0.0 0.0 0.0" rpy="0.0 0.0 0.0"/>
			<inertia ixx="1e-4" ixy="0.0" ixz="0.0" iyy="1e-4" iyz="0.0" izz="1e-4"/>
        </inertial>
        <visual name="RIGHT_GRIPPER_ROLL1_LINK_visual">
            <origin xyz="0.0 0.0 0.0" rpy="1.571 0.0 3.142"/>
            <geometry>
                <mesh filename="package://example-robot-data/robots/alex_description/meshes/sake_finger_tip.obj"/>
            </geometry>
        </visual>
       <collision>
      <origin xyz="0 0 0.0" rpy="0 0 0" />
      <geometry>
        <mesh filename="package://example-robot-data/robots/alex_description/meshes/sake_finger_tip.obj" />
      </geometry>
    </collision>
    </link>
    <link name="RightSakeBaseFingerLink2">
        <inertial>
            <mass value="0.05"/>
            <origin xyz="0.0 0.0 0.0" rpy="0.0 0.0 0.0"/>
			<inertia ixx="1e-4" ixy="0.0" ixz="0.0" iyy="1e-4" iyz="0.0" izz="1e-4"/>
        </inertial>
        <visual name="RIGHT_GRIPPER_ROLL2_LINK_visual">
            <origin xyz="0.0 0.0 0.0" rpy="1.571 0.0 0.0"/>
            <geometry>
                <mesh filename="package://example-robot-data/robots/alex_description/meshes/sake_finger_knuckle.obj"/>
            </geometry>
        </visual>
      <collision>
      <origin xyz="0 0 0.0" rpy="0 0 0" />
      <geometry>
        <mesh filename="package://example-robot-data/robots/alex_description/meshes/sake_finger_knuckle.obj" />
      </geometry>
    </collision>
    </link>
    <link name="RightSakeFingerTip2">
        <inertial>
            <mass value="0.05"/>
            <origin xyz="0.0 0.0 0.0" rpy="0.0 0.0 0.0"/>
			<inertia ixx="1e-4" ixy="0.0" ixz="0.0" iyy="1e-4" iyz="0.0" izz="1e-4"/>
        </inertial>
        <visual name="RIGHT_GRIPPER_ROLL1_LINK_visual">
            <origin xyz="0.0 0.0 0.0" rpy="1.571 0.0 0.0"/>
            <geometry>
                <mesh filename="package://example-robot-data/robots/alex_description/meshes/sake_finger_tip.obj"/>
            </geometry>
        </visual>
      <collision>
      <origin xyz="0 0 0.0" rpy="0 0 0" />
      <geometry>
        <mesh filename="package://example-robot-data/robots/alex_description/meshes/sake_finger_tip.obj" />
      </geometry>
    </collision>
    </link>

	<!-- Left Sake Gripper -->
	<link name="LeftSakePalmLink">
        <inertial>
            <mass value="0.3"/>
            <origin rpy="0 0 0" xyz="0.01 0.0 -0.06"/>
            <inertia ixx="5e-4" ixy="0.0" ixz="0.0" iyy="3e-4" iyz="0.0" izz="3e-4" />
        </inertial>
        <visual name="LeftSakePalmLinkVisual">
            <origin xyz="0.0 0.0 0.0" rpy="0 0 0"/>
            <geometry>
                <mesh filename="package://example-robot-data/robots/alex_description/meshes/SakePalmLink.obj"/>
            </geometry>
        </visual>
      <collision>
      <origin xyz="0 0 0.0" rpy="0 0 0" />
      <geometry>
        <mesh filename="package://example-robot-data/robots/alex_description/meshes/SakePalmLink.obj" />
      </geometry>
    </collision>
    </link>

	<joint name="Left_GRIPPER_X1" type="revolute">
        <origin xyz="0.0 0.0299 -0.0754" rpy="-0.25 0.0 0.0"/>
        <axis xyz="1.0 0.0 0.0"/>
        <parent link="LeftSakePalmLink"/>
        <child link="LeftSakeBaseFingerLink1"/>
        <dynamics damping="0.05" friction="0.0"/>
        <limit effort="1.0" lower="-0.06" upper="1.9" velocity="3.67"/>
    </joint>
    <joint name="LeftSakeKnuckle1" type="fixed">
        <origin xyz="0.0 0.0 -0.052" rpy="0.0 0.0 0.0"/>
        <axis xyz="1.0 0.0 0.0"/>
        <parent link="LeftSakeBaseFingerLink1"/>
        <child link="LeftSakeFingerTip1"/>
        <dynamics damping="0.05" friction="0.0"/>
        <limit effort="1.0" lower="-1.0" upper="0.0" velocity="3.67"/>
    </joint>
    <joint name="Left_GRIPPER_X2" type="revolute">
        <origin xyz="0.0 -0.0299 -0.0754" rpy="0.25 0.0 0.0"/>
        <axis xyz="-1.0 0.0 0.0"/>
        <parent link="LeftSakePalmLink"/>
        <child link="LeftSakeBaseFingerLink2"/>
        <dynamics damping="0.05" friction="0.0"/>
        <limit effort="1.0" lower="-0.06" upper="1.9" velocity="3.67"/>
    </joint>
    <joint name="LeftSakeKnuckle2" type="fixed">
        <origin xyz="0.0 0.0 -0.052" rpy="0.0 0.0 0.0"/>
        <axis xyz="-1.0 0.0 0.0"/>
        <parent link="LeftSakeBaseFingerLink2"/>
        <child link="LeftSakeFingerTip2"/>
        <dynamics damping="0.05" friction="0.0"/>
        <limit effort="1.0" lower="-1.0" upper="0.0" velocity="3.67"/>
    </joint>

	<link name="LeftSakeBaseFingerLink1">
        <inertial>
            <mass value="0.05"/>
            <origin xyz="0.0 0.0 0.0" rpy="0.0 0.0 0.0"/>
			<inertia ixx="1e-4" ixy="0.0" ixz="0.0" iyy="1e-4" iyz="0.0" izz="1e-4"/>
        </inertial>
        <visual name="LeftSakeBaseFingerLink1Visual">
            <origin xyz="0.0 0.0 0.0" rpy="1.571 0.0 3.142"/>
            <geometry>
                <mesh filename="package://example-robot-data/robots/alex_description/meshes/sake_finger_knuckle.obj"/>
            </geometry>
        </visual>
      <collision>
      <origin xyz="0 0 0.0" rpy="0 0 0" />
      <geometry>
        <mesh filename="package://example-robot-data/robots/alex_description/meshes/sake_finger_knuckle.obj" />
      </geometry>
    </collision>
    </link>
    <link name="LeftSakeFingerTip1">
        <inertial>
            <mass value="0.05"/>
            <origin xyz="0.0 0.0 0.0" rpy="0.0 0.0 0.0"/>
			<inertia ixx="1e-4" ixy="0.0" ixz="0.0" iyy="1e-4" iyz="0.0" izz="1e-4"/>
        </inertial>
        <visual name="LeftSakeFingerTip1Visual">
            <origin xyz="0.0 0.0 0.0" rpy="1.571 0.0 3.142"/>
            <geometry>
                <mesh filename="package://example-robot-data/robots/alex_description/meshes/sake_finger_tip.obj"/>
            </geometry>
        </visual>
      <collision>
      <origin xyz="0 0 0.0" rpy="0 0 0" />
      <geometry>
        <mesh filename="package://example-robot-data/robots/alex_description/meshes/sake_finger_tip.obj" />
      </geometry>
    </collision>
    </link>
    <link name="LeftSakeBaseFingerLink2">
        <inertial>
            <mass value="0.05"/>
            <origin xyz="0.0 0.0 0.0" rpy="0.0 0.0 0.0"/>
			<inertia ixx="1e-4" ixy="0.0" ixz="0.0" iyy="1e-4" iyz="0.0" izz="1e-4"/>
        </inertial>
        <visual name="LeftSakeBaseFingerLink2Visual">
            <origin xyz="0.0 0.0 0.0" rpy="1.571 0.0 0.0"/>
            <geometry>
                <mesh filename="package://example-robot-data/robots/alex_description/meshes/sake_finger_knuckle.obj"/>
            </geometry>
        </visual>
      <collision>
      <origin xyz="0 0 0.0" rpy="0 0 0" />
      <geometry>
        <mesh filename="package://example-robot-data/robots/alex_description/meshes/sake_finger_knuckle.obj" />
      </geometry>
    </collision>
    </link>
    <link name="LeftSakeFingerTip2">
        <inertial>
            <mass value="0.05"/>
            <origin xyz="0.0 0.0 0.0" rpy="0.0 0.0 0.0"/>
			<inertia ixx="1e-4" ixy="0.0" ixz="0.0" iyy="1e-4" iyz="0.0" izz="1e-4"/>
        </inertial>
        <visual name="LeftSakeFingerTip2Visual">
            <origin xyz="0.0 0.0 0.0" rpy="1.571 0.0 0.0"/>
            <geometry>
                <mesh filename="package://example-robot-data/robots/alex_description/meshes/sake_finger_tip.obj"/>
            </geometry>
        </visual>
      <collision>
      <origin xyz="0 0 0.0" rpy="0 0 0" />
      <geometry>
        <mesh filename="package://example-robot-data/robots/alex_description/meshes/sake_finger_tip.obj" />
      </geometry>
    </collision>
    </link>
</robot>
